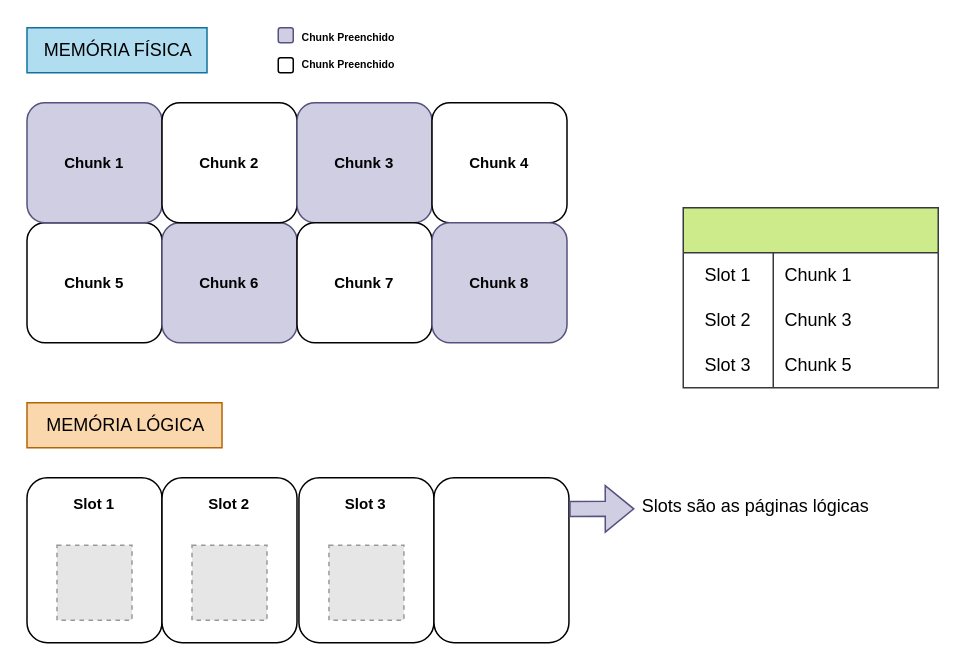
This 965x669 diagram has some shape labels left out. Grey dashed boxes stand in for pictures. Each missing label, with the box of its shape:
Slot 4: (432, 476, 569, 643)
Tabela de Mapeamento: (682, 206, 938, 388)
